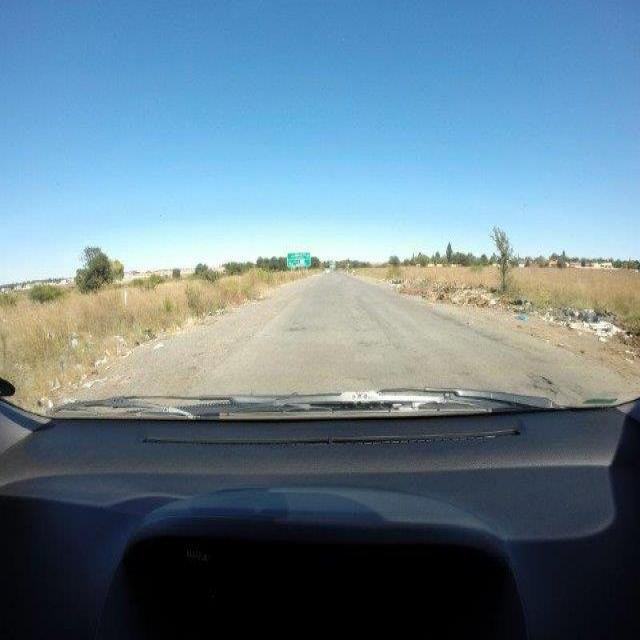lubang: (524, 369, 556, 396)
